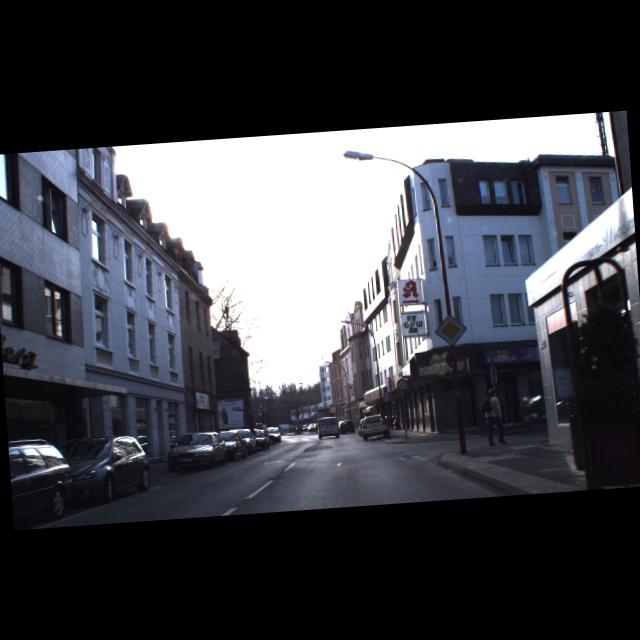other: (433, 313, 467, 347)
prohibitory: (395, 378, 408, 391)
